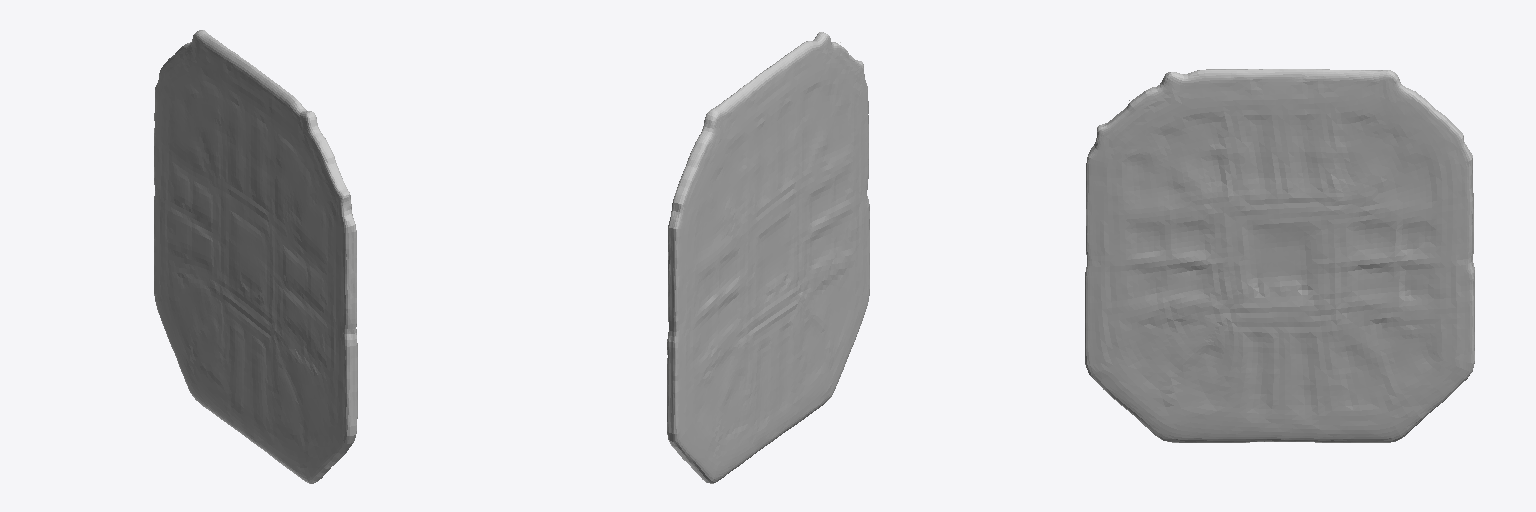
File: 9ef9b90b700b_a_large_sci_fi_mill.obj
The picture shows the model from 3 angles: view 1: azimuth 30°, elevation 25°; view 2: azimuth 150°, elevation 25°; view 3: azimuth 270°, elevation 25°; orthographic projection.
Visible parts, largest first — view 1: mesh; view 2: mesh; view 3: mesh.
Boxes of the visible parts, box(x1,y1,x2,y2) form: mesh: box(154, 30, 357, 483); mesh: box(667, 32, 869, 483); mesh: box(1085, 69, 1474, 442).
Size of the model in its own units: 0.0437 by 0.9991 by 0.9452.